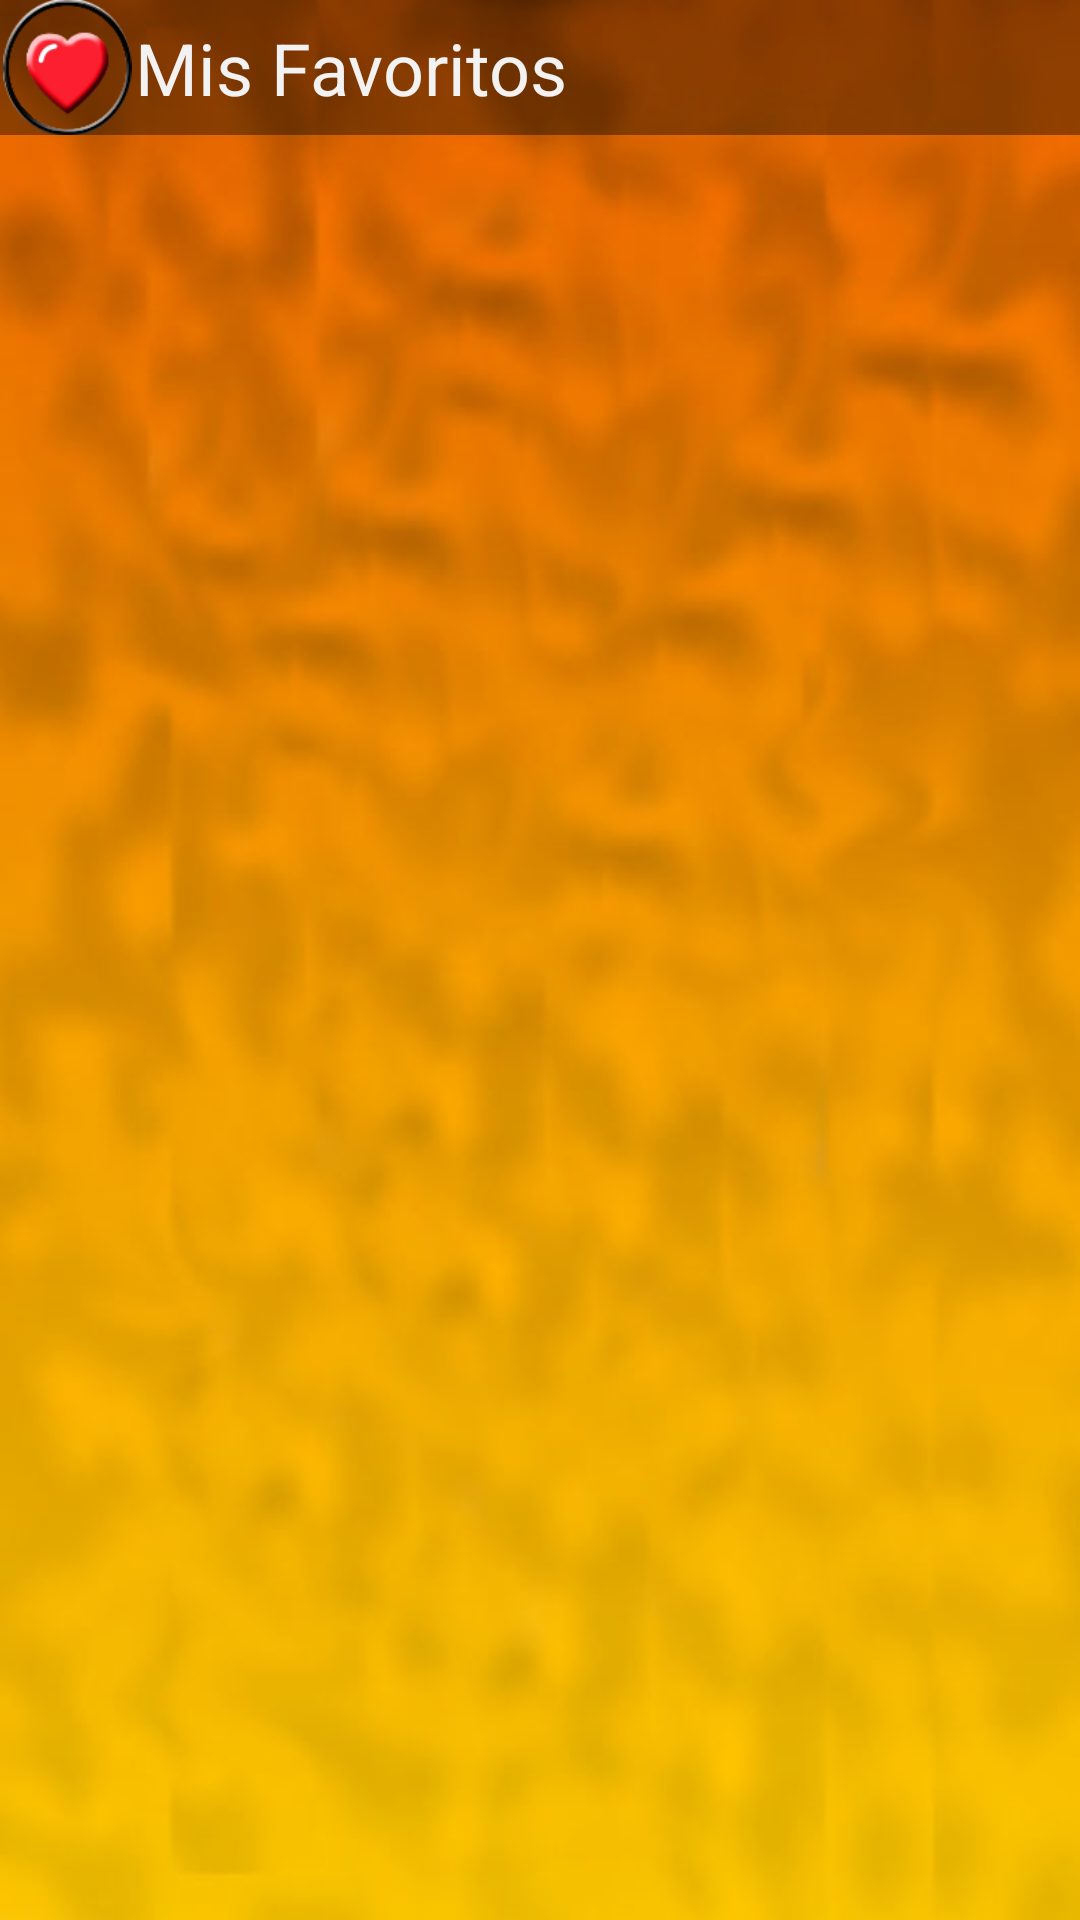

Where to tap for icons on this 1080px×1920px app screen, as point (x, y):
megustarojo: point (67, 67)
